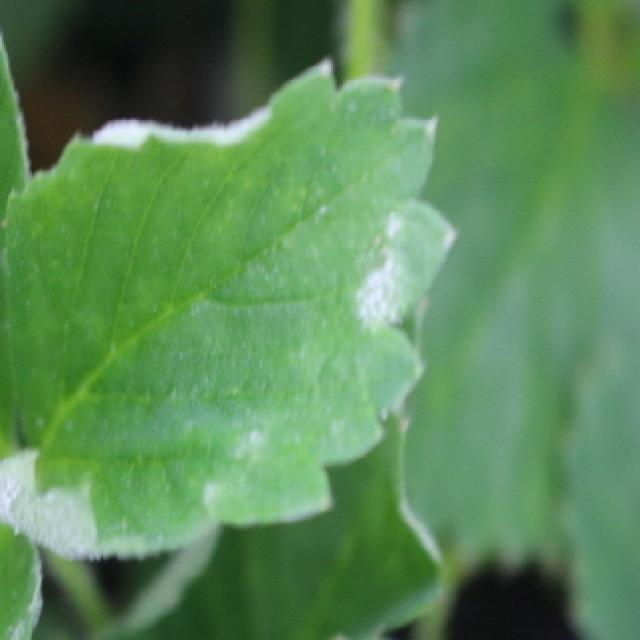Powdery Mildew Leaf: (0, 52, 462, 563)
